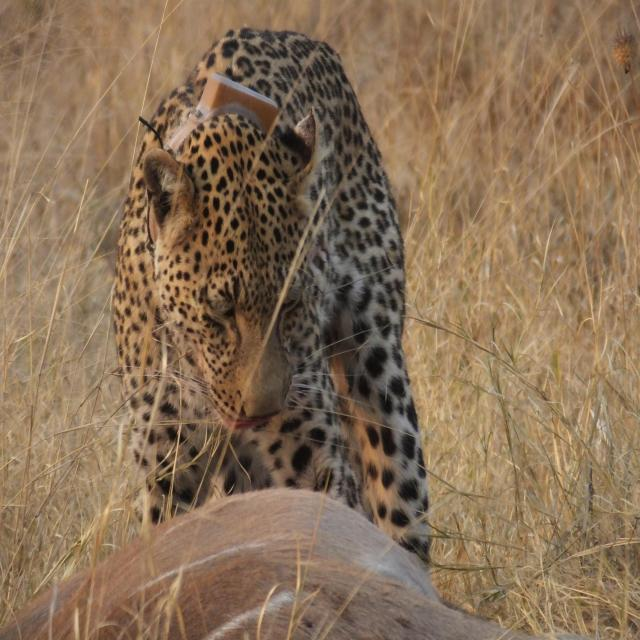Leopard: (112, 24, 438, 583)
